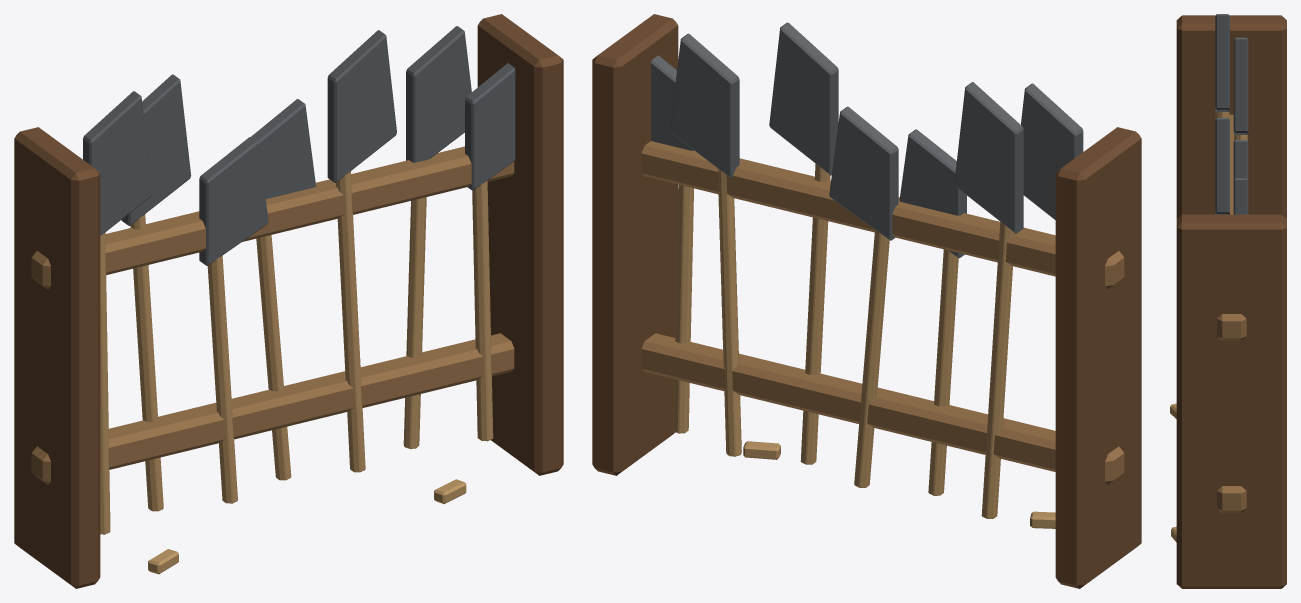
The model's file is runtime.glb.
3 views of the same model, side by side, from view 1: azimuth 30°, elevation 25°; view 2: azimuth 150°, elevation 25°; view 3: azimuth 270°, elevation 25° (orthographic). The views are drawn at different scales.
Parts seen in each view (by area): view 1: falkenwacht-weapon-rack-v03_nocol; view 2: falkenwacht-weapon-rack-v03_nocol; view 3: falkenwacht-weapon-rack-v03_nocol.
Boxes of the visible parts, x1,y1,x2,y2 form: falkenwacht-weapon-rack-v03_nocol: (14,14,563,588); falkenwacht-weapon-rack-v03_nocol: (592,14,1141,588); falkenwacht-weapon-rack-v03_nocol: (1170,14,1286,588).
Bounding box in the file's own units: 2.23 × 1.94 × 0.5089.
